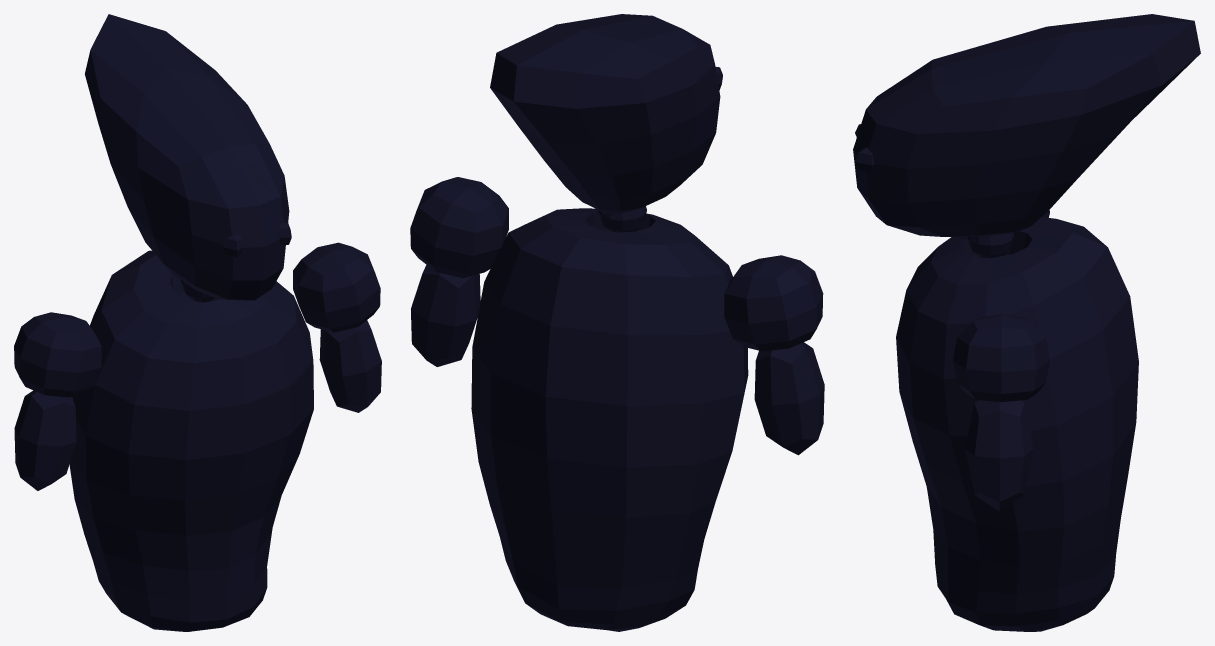
Rendered from Robot 1.fbx.
The picture shows the model from 3 angles, left to right: view 1: azimuth 30°, elevation 25°; view 2: azimuth 150°, elevation 25°; view 3: azimuth 270°, elevation 25°; orthographic projection. The views are drawn at different scales.
Parts seen in each view (by area): view 1: Low Body, Low Head, Shoulder, Arm, Eyes; view 2: Low Body, Low Head, Shoulder, Arm, Low Neck; view 3: Low Body, Low Head, Shoulder, Arm, Low Neck.
Part boxes in pixels (<box>): Low Body: <box>69,250,313,631</box>; Low Head: <box>85,14,289,300</box>; Shoulder: <box>14,242,380,397</box>; Arm: <box>14,320,381,490</box>; Eyes: <box>222,222,291,257</box>; Low Body: <box>471,208,748,631</box>; Low Head: <box>490,14,720,214</box>; Shoulder: <box>410,177,823,351</box>; Arm: <box>411,265,824,455</box>; Low Neck: <box>597,206,646,232</box>; Low Body: <box>896,217,1138,631</box>; Low Head: <box>853,14,1200,236</box>; Shoulder: <box>953,210,1049,402</box>; Arm: <box>965,400,1033,511</box>; Low Neck: <box>967,233,1014,257</box>.
Size of the model in its own units: 64.81 by 93.43 by 49.87.
Materials: 1 (1 with a texture image).
